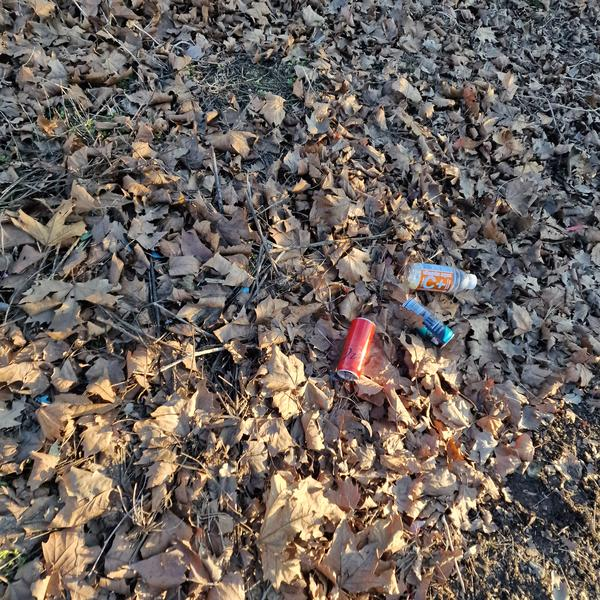can: (394, 294, 458, 353), (332, 314, 379, 385)
plastic_bottle: (403, 261, 479, 297)
